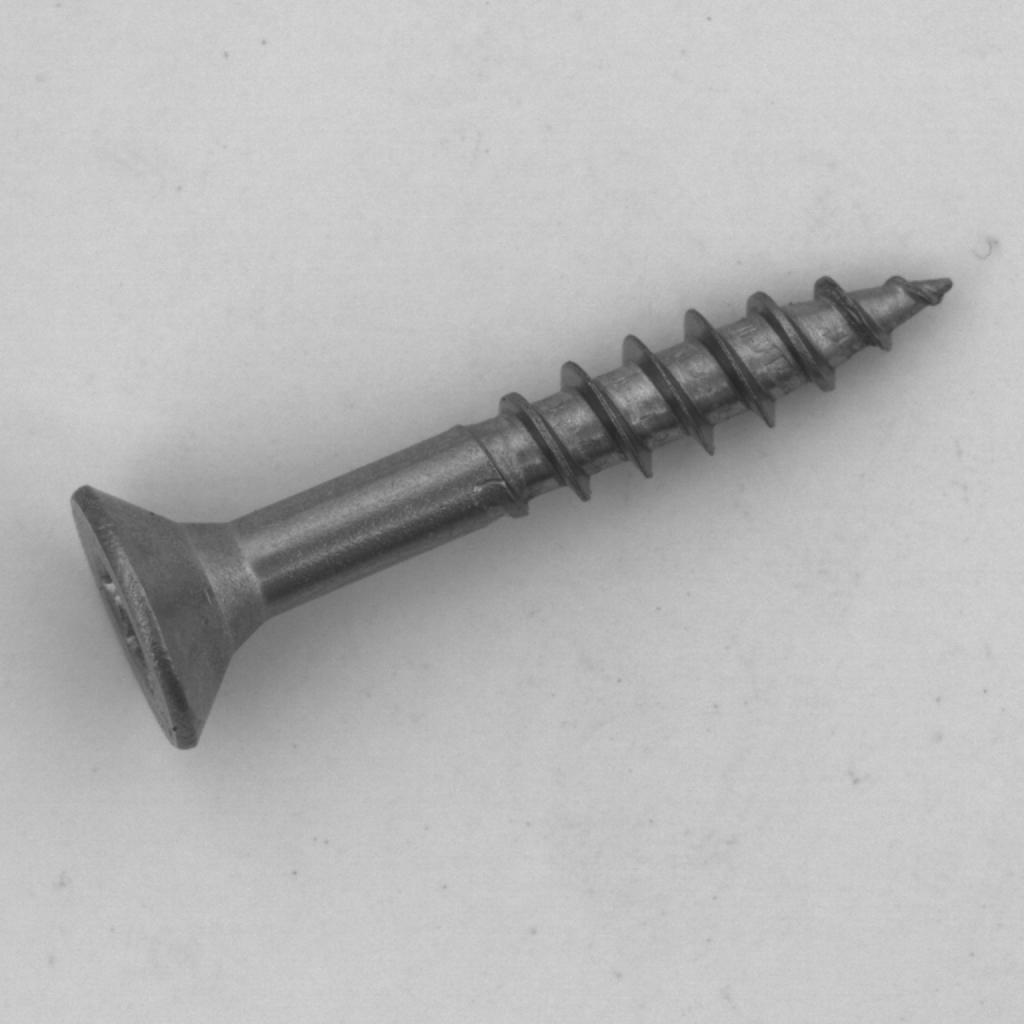good: (60, 258, 975, 771)
